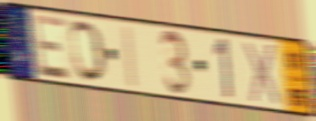1: (211, 36, 234, 102)
3: (159, 27, 191, 98)
E: (30, 12, 72, 82)
I: (121, 23, 140, 92)
O: (68, 19, 108, 85)
X: (242, 40, 283, 110)
